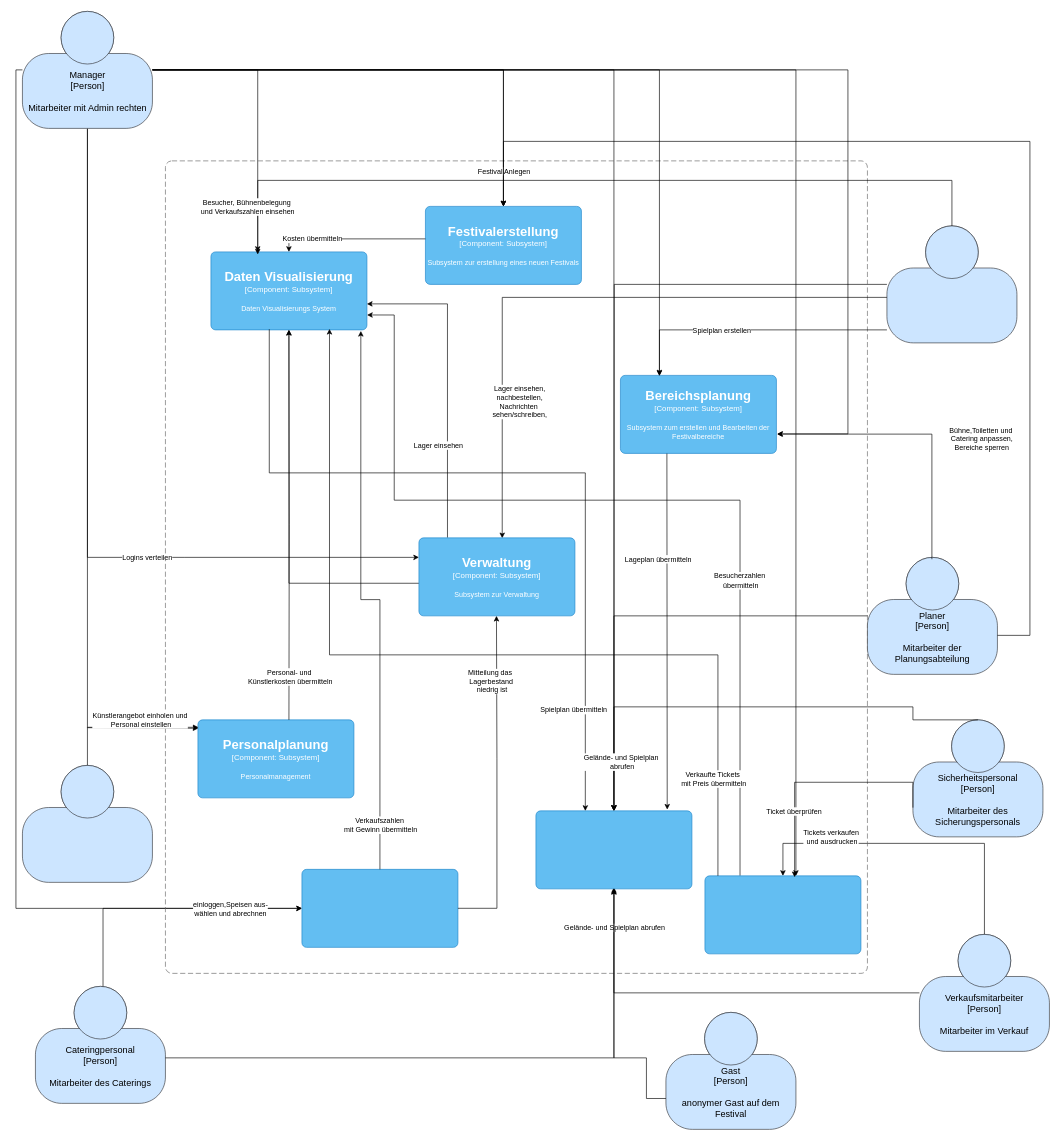
Some shapes in this 1061 by 1141 pixel diagram are drawn without their labels. Here are the shapes that lost their labels. From the top down, the box of each, then its label:
(886, 225, 1017, 343): Festivalleiter [Person] Festgelegte Leiter des Festivals
(165, 160, 867, 973): Festivalplanungs Software [Software System]
(22, 765, 152, 882): Personalabteilung [Person] Managed Künstler und Personal
(535, 810, 692, 889): Terminals [Component: Subsystem] Infoscreen
(301, 869, 458, 947): Catering-Terminal [Component: Subsystem] Speisen management System
(704, 875, 861, 954): Tickets [Component: Subsystem] Subsystem zur Ticket Verwaltung
